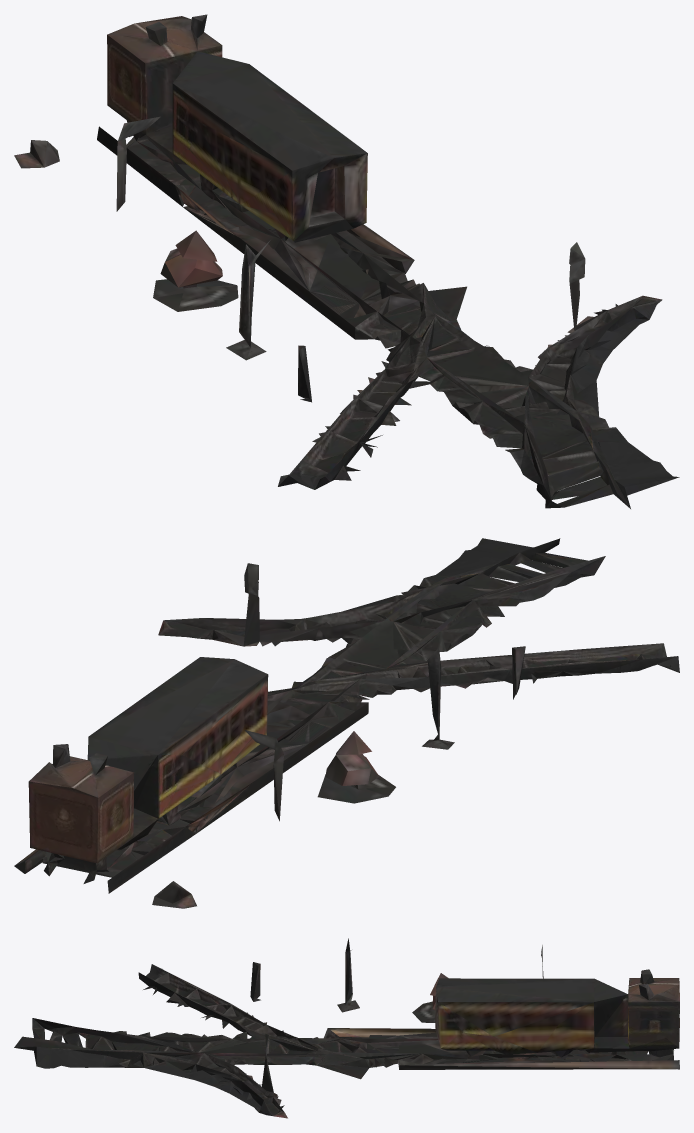
3 views of the same model, one above another, from view 1: azimuth 30°, elevation 25°; view 2: azimuth 150°, elevation 25°; view 3: azimuth 270°, elevation 25° (orthographic). The views are drawn at different scales.
Size of the model in its own units: 0.5331 by 0.1332 by 1.
1 material, 1 textured.
